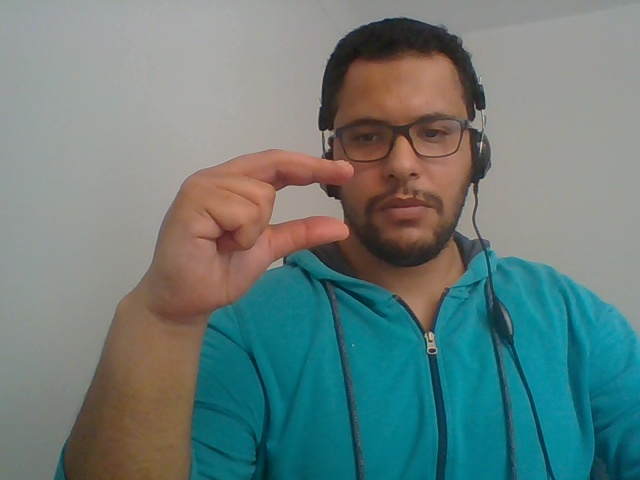no: (142, 106, 359, 404)
